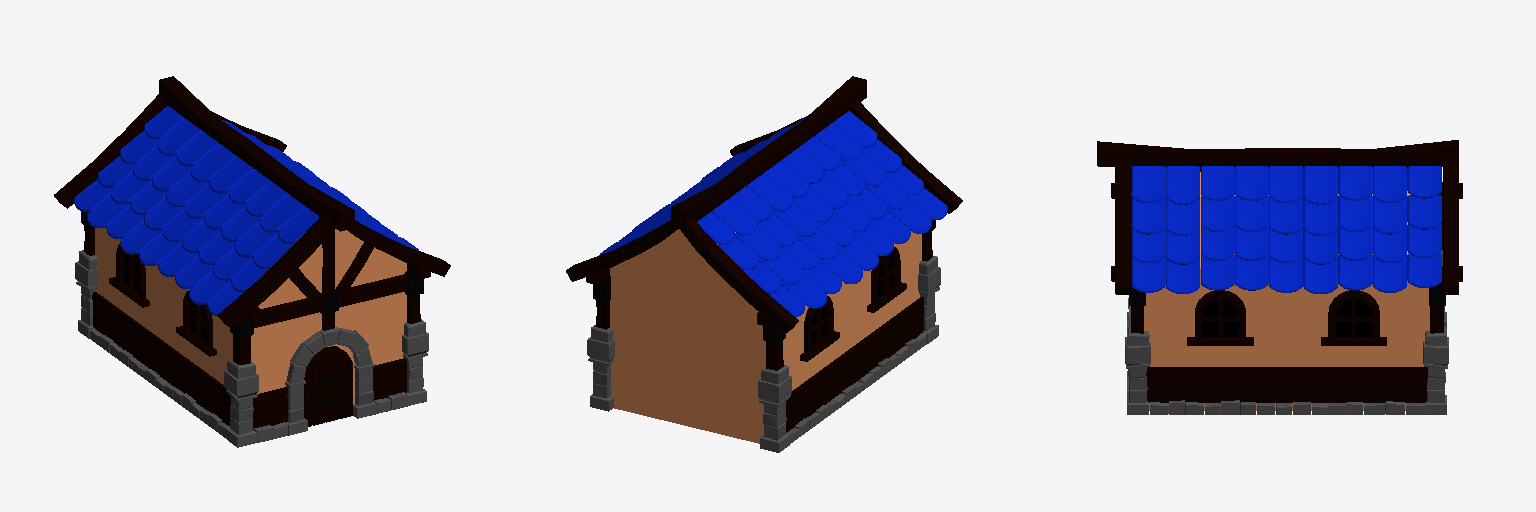
Rendered from GuildHall.obj.
3 views of the same model, side by side, from view 1: azimuth 30°, elevation 25°; view 2: azimuth 150°, elevation 25°; view 3: azimuth 270°, elevation 25° (orthographic).
Parts seen in each view (by area): view 1: Cube_Cube.001, Cube.021_Cube.030, Cube.013_Cube.031, Cube.012_Cube.013, Cube.015_Cube.033, Cube.014_Cube.032, Cylinder.000_Cylinder.007, Cube.010_Cube.011, Cube.002_Cube.003, Cube.001_Cube.014, Cylinder.005_Cylinder.012, Cylinder_Cylinder.011 (+9 smaller); view 2: Cube_Cube.001, Cube.021_Cube.030, Cube.013_Cube.031, Cube.015_Cube.033, Cube.012_Cube.013, Cube.014_Cube.032, Cylinder.000_Cylinder.007, Cube.010_Cube.011, Cylinder_Cylinder.011, Cube.002_Cube.003, Cube.001_Cube.014, Cylinder.003_Cylinder.010 (+2 smaller); view 3: Cube_Cube.001, Cube.021_Cube.030, Cube.013_Cube.031, Cube.015_Cube.033, Cube.014_Cube.032, Cube.010_Cube.011, Cylinder_Cylinder.011, Cube.002_Cube.003, Cube.001_Cube.014, Cube.012_Cube.013, Cylinder.000_Cylinder.007, Cylinder.003_Cylinder.010 (+2 smaller).
Part boxes in pixels (left/top/right/bottom): Cube_Cube.001: left=95, top=227, right=406, bottom=403; Cube.021_Cube.030: left=144, top=106, right=365, bottom=243; Cube.013_Cube.031: left=120, top=119, right=389, bottom=268; Cube.012_Cube.013: left=54, top=94, right=450, bottom=328; Cube.015_Cube.033: left=74, top=145, right=418, bottom=316; Cube.014_Cube.032: left=98, top=133, right=407, bottom=292; Cylinder.000_Cylinder.007: left=75, top=250, right=428, bottom=447; Cube.010_Cube.011: left=159, top=76, right=354, bottom=231; Cube.002_Cube.003: left=92, top=292, right=407, bottom=413; Cube.001_Cube.014: left=93, top=310, right=406, bottom=429; Cylinder.005_Cylinder.012: left=304, top=346, right=352, bottom=426; Cylinder_Cylinder.011: left=109, top=244, right=216, bottom=356; Cube_Cube.001: left=610, top=229, right=921, bottom=443; Cube.021_Cube.030: left=657, top=111, right=877, bottom=244; Cube.013_Cube.031: left=632, top=126, right=901, bottom=269; Cube.015_Cube.033: left=600, top=151, right=947, bottom=316; Cube.012_Cube.013: left=566, top=99, right=962, bottom=333; Cube.014_Cube.032: left=616, top=140, right=923, bottom=293; Cylinder.000_Cylinder.007: left=587, top=256, right=940, bottom=452; Cube.010_Cube.011: left=671, top=76, right=866, bottom=227; Cylinder_Cylinder.011: left=800, top=247, right=906, bottom=361; Cube.002_Cube.003: left=786, top=297, right=923, bottom=414; Cube.001_Cube.014: left=786, top=315, right=923, bottom=432; Cylinder.003_Cylinder.010: left=786, top=333, right=926, bottom=443; Cube_Cube.001: left=1144, top=172, right=1429, bottom=410; Cube.021_Cube.030: left=1131, top=166, right=1441, bottom=204; Cube.013_Cube.031: left=1131, top=195, right=1441, bottom=235; Cube.015_Cube.033: left=1132, top=254, right=1441, bottom=293; Cube.014_Cube.032: left=1132, top=224, right=1441, bottom=264; Cube.010_Cube.011: left=1097, top=140, right=1458, bottom=171; Cylinder_Cylinder.011: left=1187, top=290, right=1386, bottom=345; Cube.002_Cube.003: left=1146, top=367, right=1427, bottom=384; Cube.001_Cube.014: left=1147, top=385, right=1426, bottom=402; Cube.012_Cube.013: left=1115, top=161, right=1458, bottom=294; Cylinder.000_Cylinder.007: left=1125, top=250, right=1448, bottom=414; Cylinder.003_Cylinder.010: left=1150, top=400, right=1424, bottom=414.
Bounding box in the file's own units: 7.53 × 7.19 × 10.58.